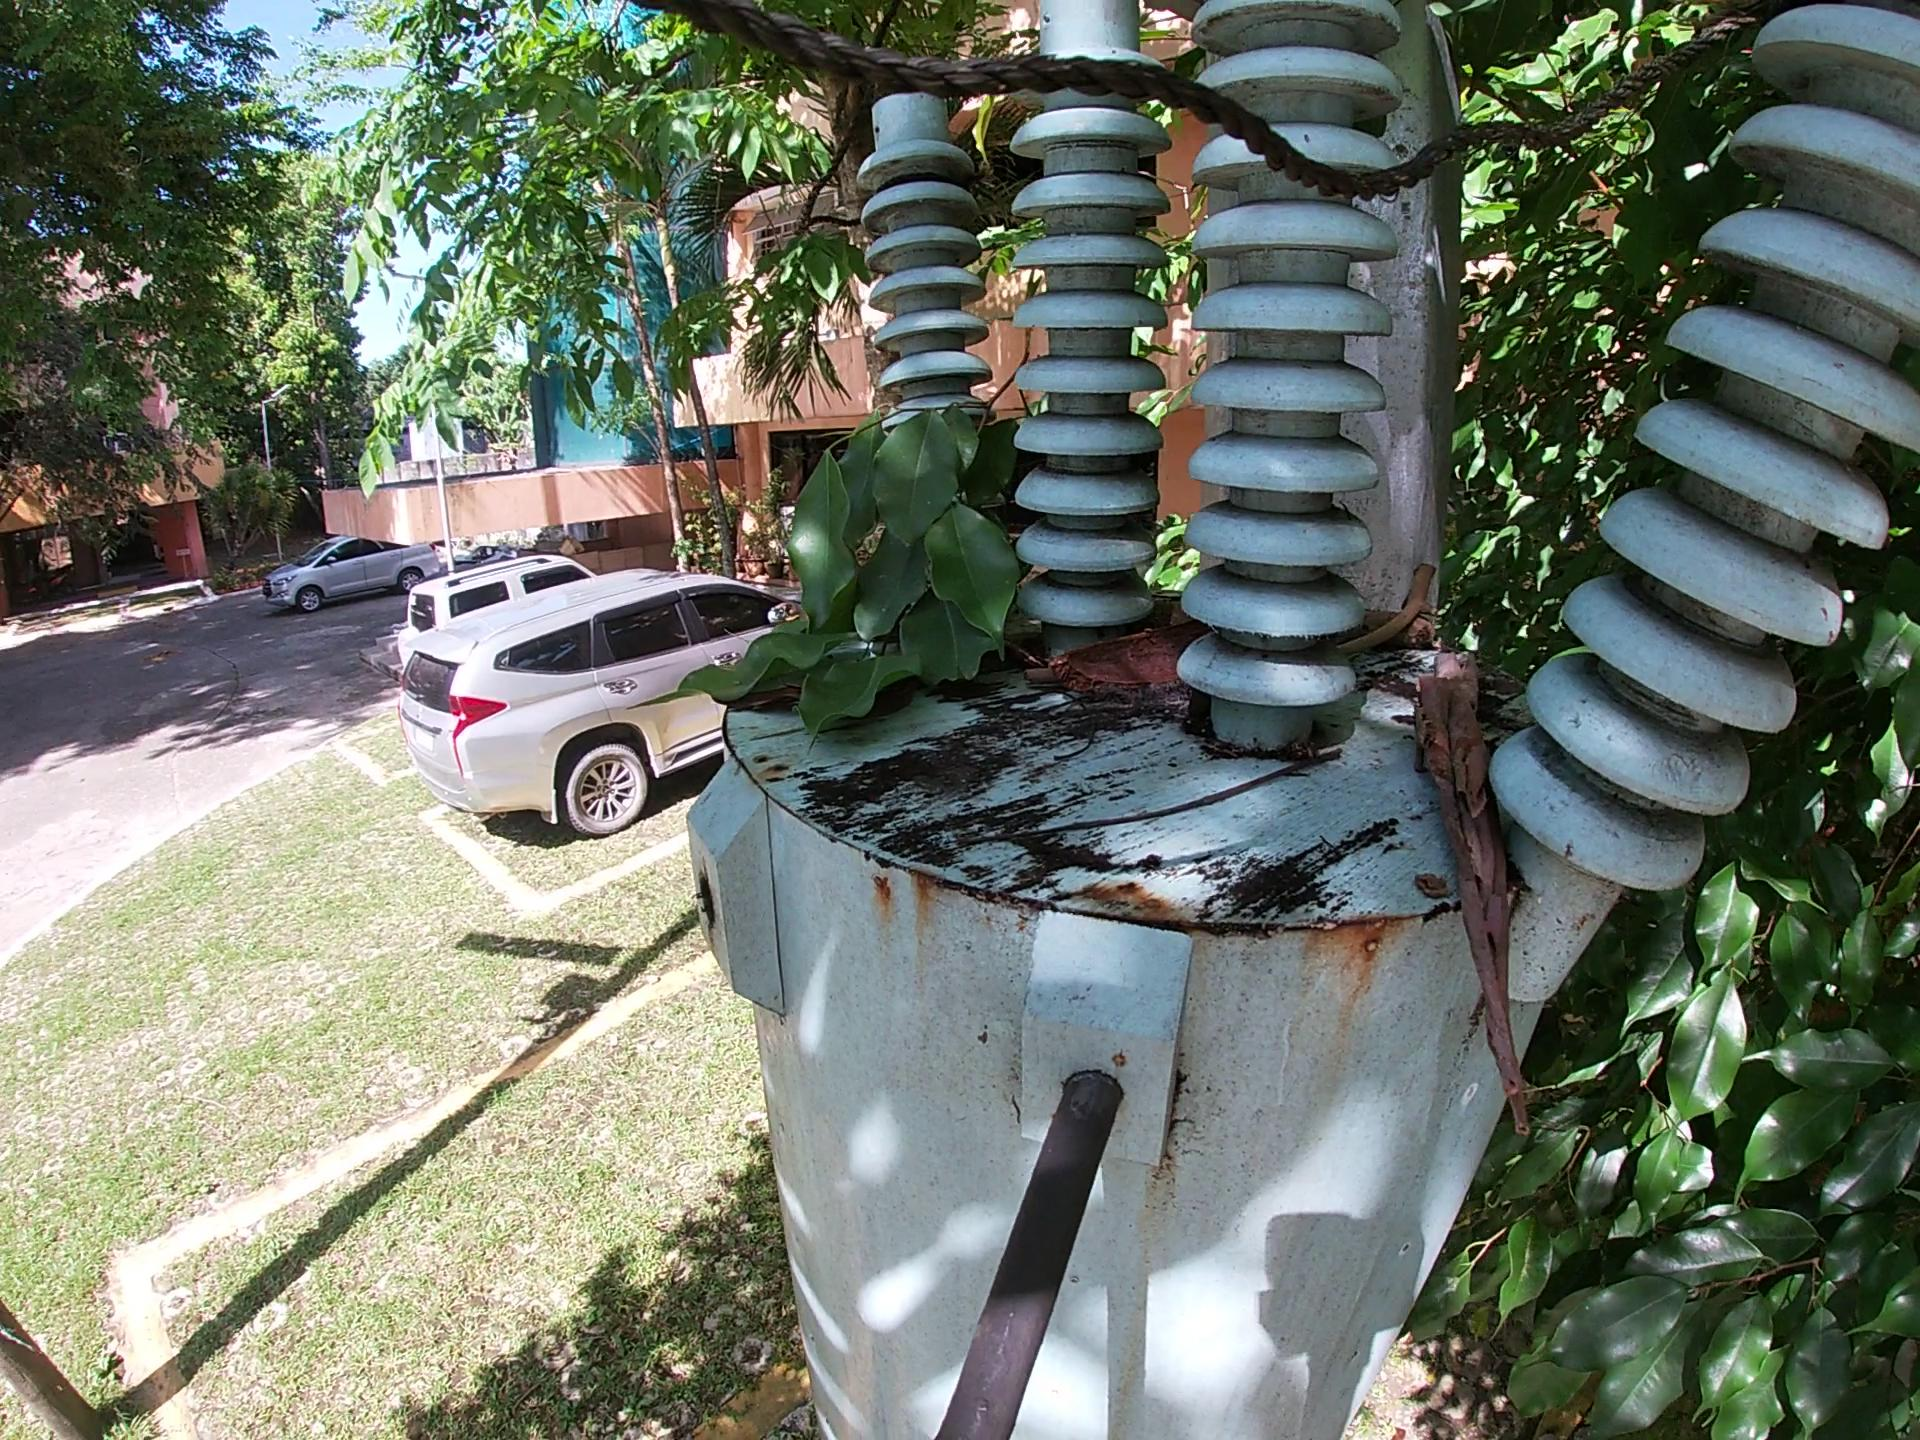branch with leaves: (667, 337, 1042, 731)
mahogany fruit: (1033, 617, 1225, 697), (730, 675, 848, 709)
tree branch: (1411, 613, 1574, 1151), (948, 750, 1353, 850), (1330, 570, 1450, 658), (1045, 696, 1101, 779), (1017, 653, 1058, 688), (1144, 587, 1200, 608)
